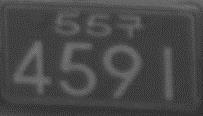1: (153, 46, 185, 102)
4: (12, 40, 53, 96)
5: (57, 41, 97, 97), (85, 10, 112, 39), (53, 9, 80, 36)
9: (102, 43, 143, 98)
구: (116, 13, 143, 39)
